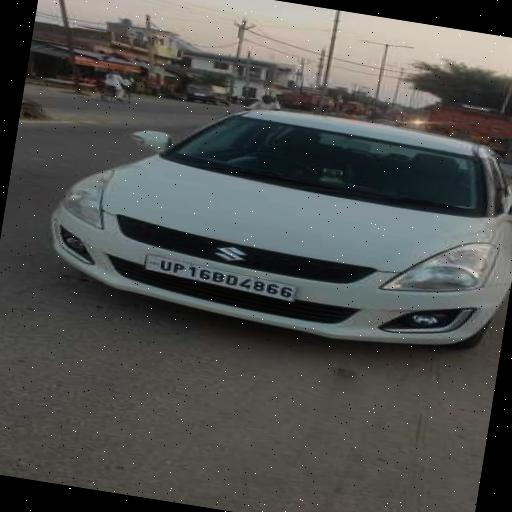license_plate`: (140, 251, 298, 302)
